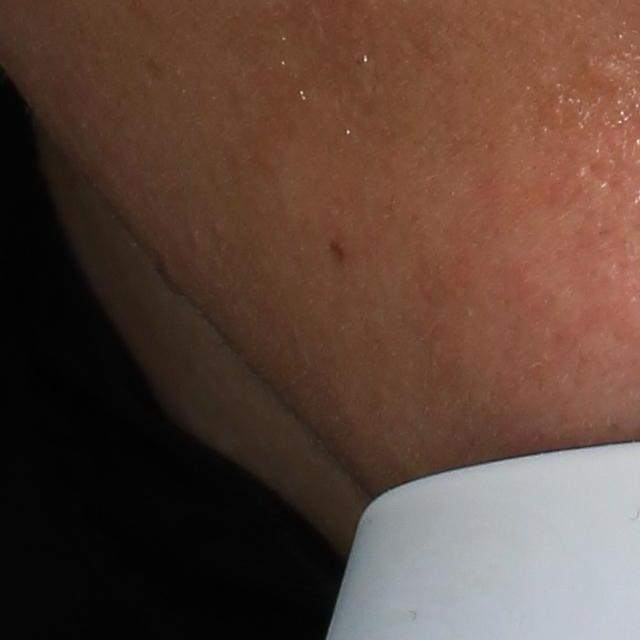atrophic_scar: (579, 160, 616, 190)
nevus: (329, 239, 350, 264)
